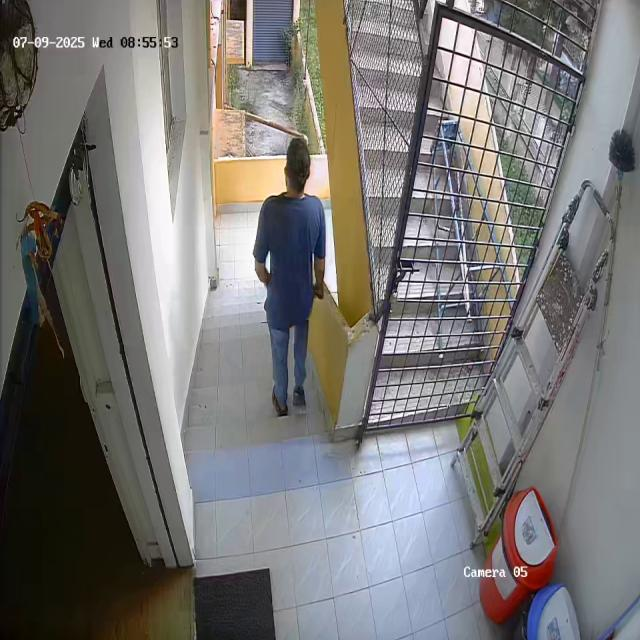person: (256, 136, 325, 412)
